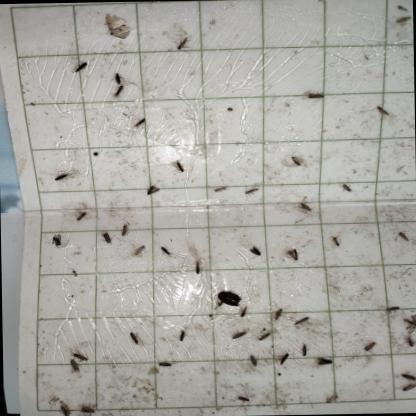prays_oleae: (103, 8, 134, 44), (372, 94, 392, 126), (296, 188, 314, 222), (72, 57, 95, 83), (68, 202, 88, 231), (127, 112, 153, 134), (315, 350, 337, 376), (304, 78, 325, 104), (284, 237, 302, 267), (390, 6, 412, 30), (48, 164, 74, 184), (125, 323, 142, 352), (242, 178, 260, 205), (173, 30, 190, 58), (288, 146, 304, 174), (338, 180, 354, 207), (228, 326, 249, 346), (380, 300, 401, 320), (395, 221, 410, 249), (70, 344, 89, 366), (172, 154, 188, 180), (154, 355, 174, 374), (145, 178, 162, 200), (112, 80, 128, 103), (119, 217, 132, 245), (402, 376, 416, 402), (156, 240, 171, 264), (234, 388, 252, 408), (360, 338, 376, 360), (277, 346, 292, 369), (245, 240, 262, 260), (48, 230, 64, 251), (270, 304, 288, 322), (255, 326, 273, 344), (131, 243, 148, 262), (99, 227, 113, 250), (66, 354, 80, 376), (177, 318, 188, 346), (210, 178, 228, 195), (400, 314, 416, 333), (80, 400, 98, 416), (300, 336, 310, 364), (192, 256, 204, 278), (59, 396, 72, 416), (234, 304, 250, 320), (245, 352, 260, 369), (401, 367, 416, 383), (399, 336, 416, 349), (330, 231, 341, 251), (110, 70, 122, 85)
